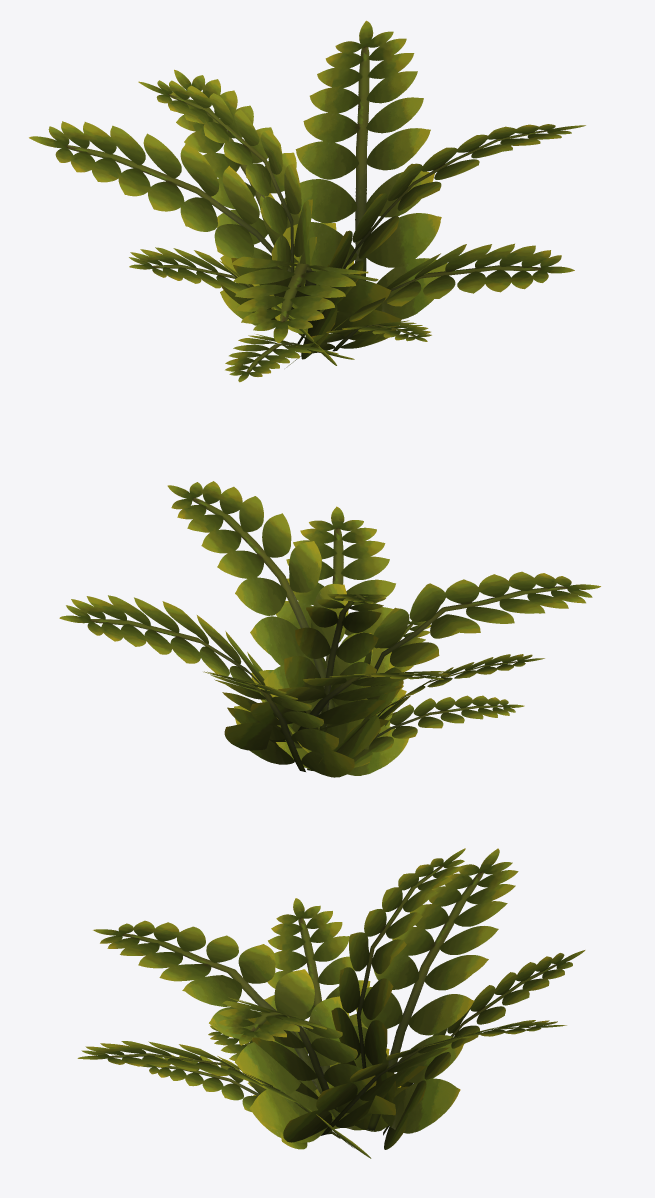
The model's file is Fern.fbx.
3 renders of one model, top to bottom at view 1: azimuth 30°, elevation 25°; view 2: azimuth 150°, elevation 25°; view 3: azimuth 270°, elevation 25°, orthographic. The views are drawn at different scales.
Visible parts, largest first — view 1: Fern1; view 2: Fern1; view 3: Fern1.
Part boxes in pixels (left/top/right/bottom): Fern1: left=29, top=20, right=585, bottom=382; Fern1: left=59, top=481, right=600, bottom=777; Fern1: left=77, top=848, right=585, bottom=1158.
Bounding box in the file's own units: 1.19 × 0.5767 × 1.25.
Materials: 1 (1 with a texture image).
